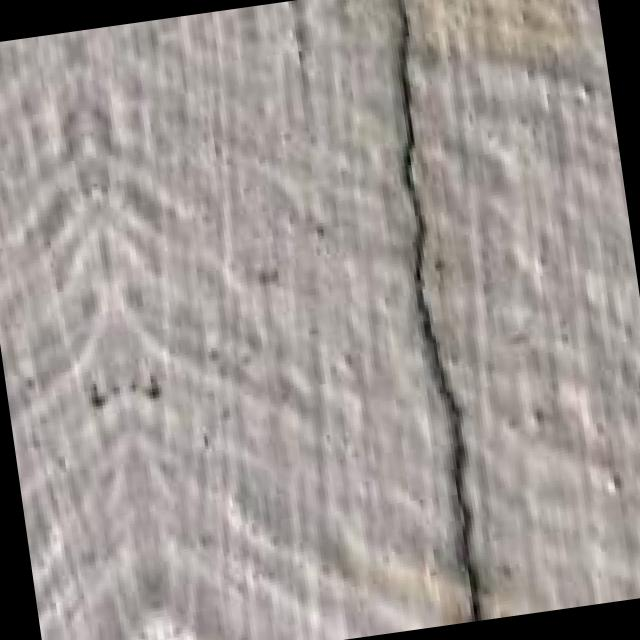crack: (237, 0, 573, 639)
